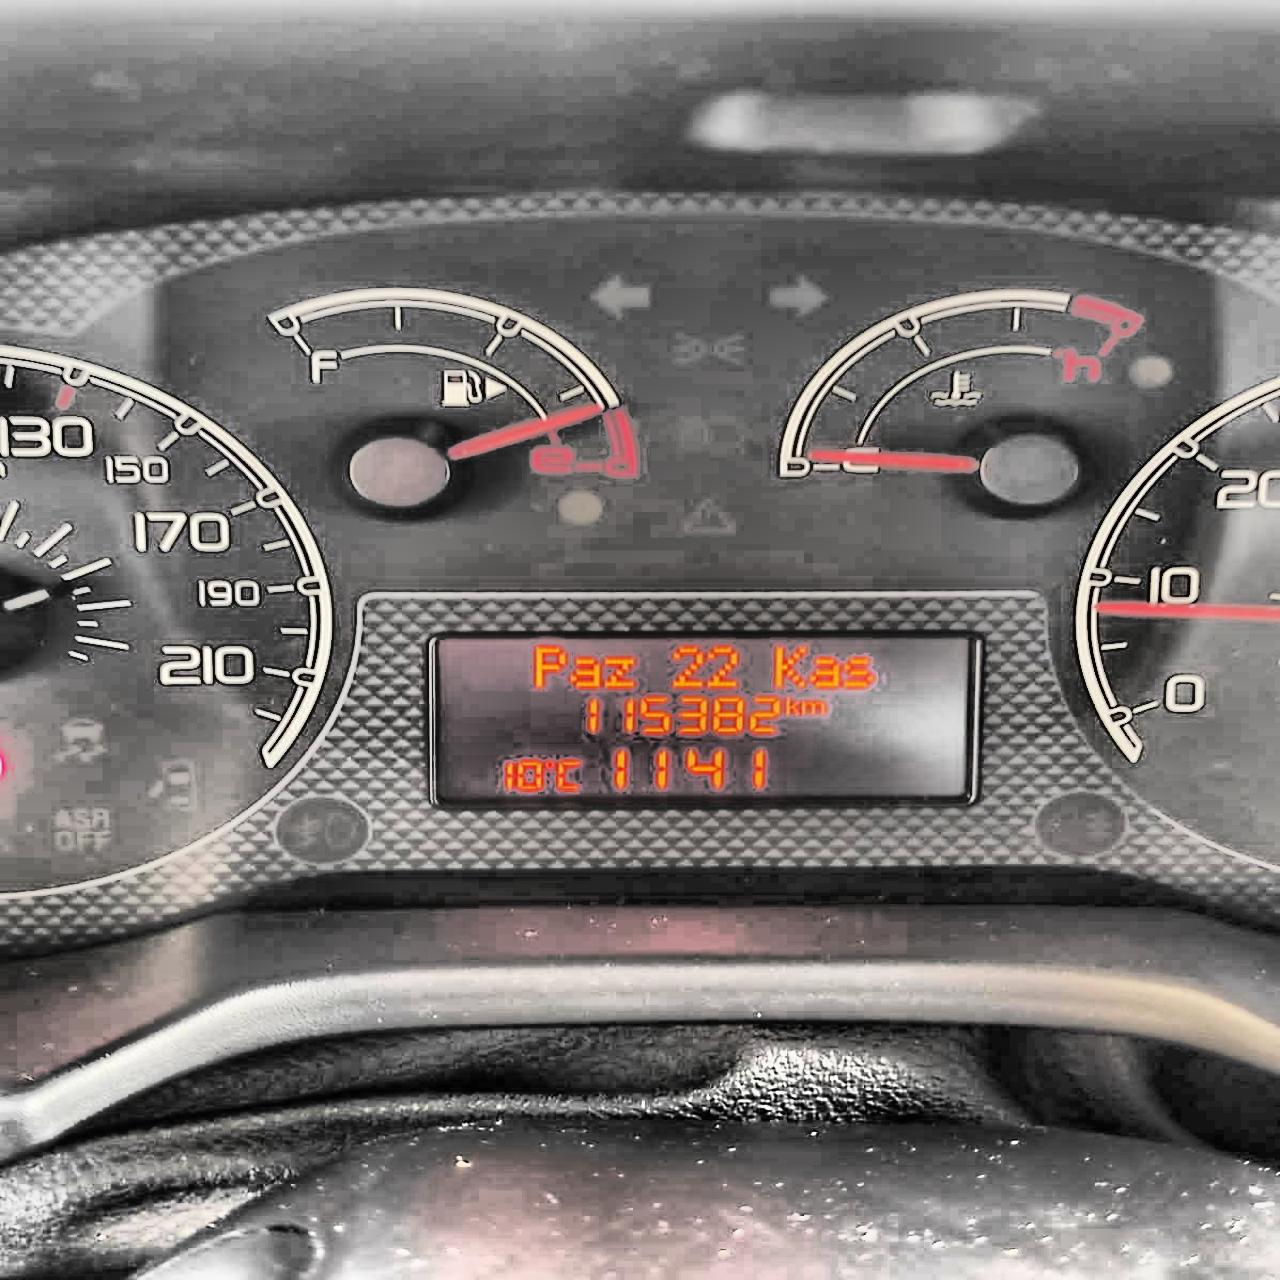0: (517, 758, 543, 790)
1: (749, 748, 765, 790), (612, 748, 626, 790), (654, 748, 668, 790), (585, 696, 600, 735), (622, 696, 636, 734), (505, 761, 515, 791)
2: (703, 645, 740, 689), (670, 644, 703, 689), (748, 694, 781, 735)
3: (675, 695, 708, 735)
4: (683, 747, 723, 789)
5: (638, 694, 670, 735)
8: (712, 694, 744, 734)
X: (771, 644, 808, 689), (530, 645, 566, 689), (601, 655, 636, 689), (568, 655, 601, 689), (842, 655, 874, 689), (808, 656, 840, 689), (553, 760, 583, 791), (783, 694, 801, 716), (802, 699, 824, 716)
odometer: (424, 626, 987, 812)
